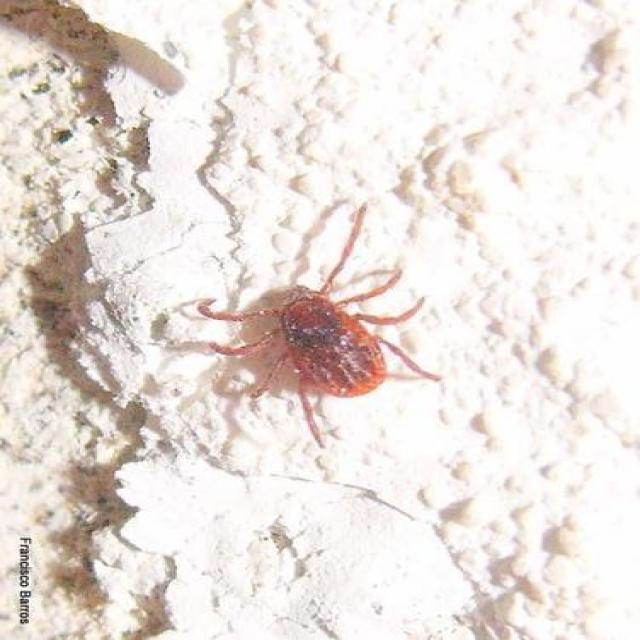Rhipicephalus Sanguineus-F: (196, 204, 441, 449)
